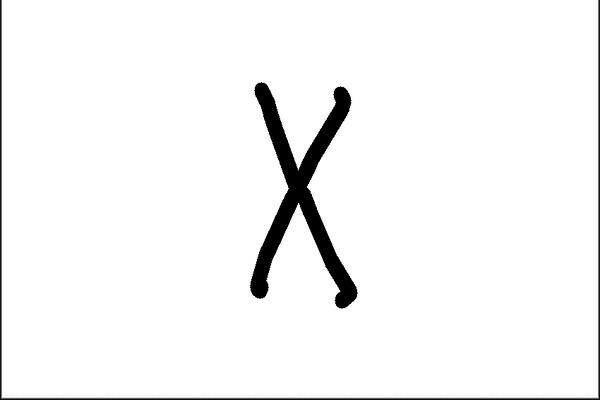X: (222, 64, 393, 309)
